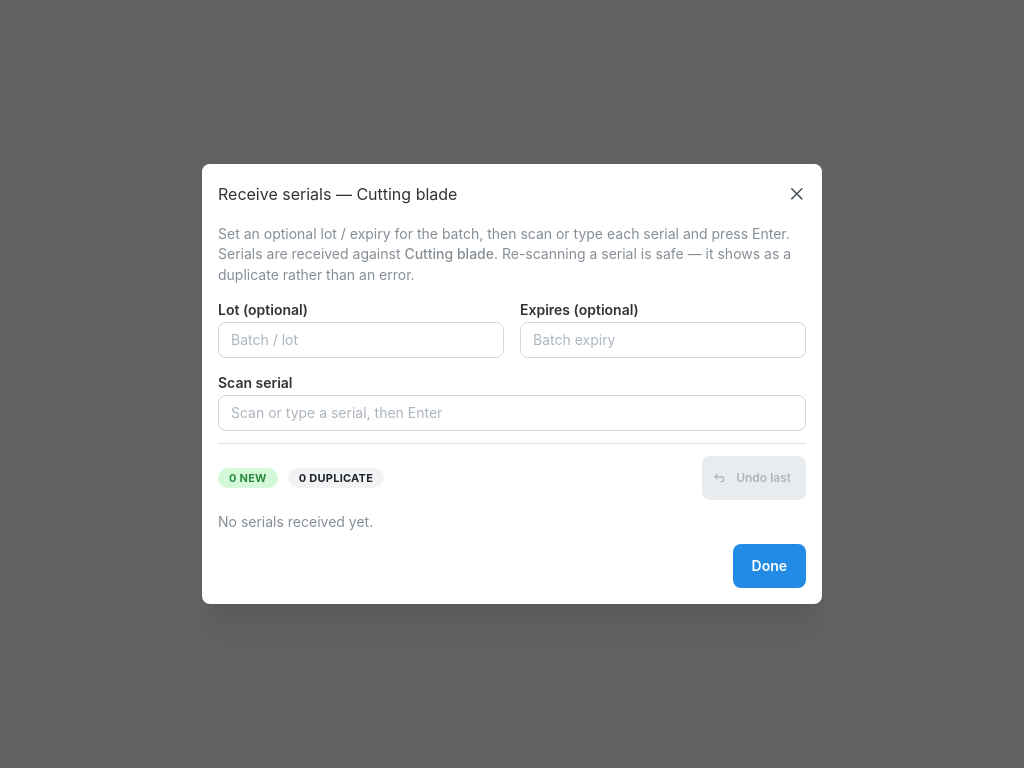
Scenario: SerializedScanReceiveModal › receives a scanned serial against the batch item and marks it new
Type "SN-1" into the field with test id "scan-receive-serial".
click(512, 413); type("SN-1")  # box [218, 395, 806, 431]
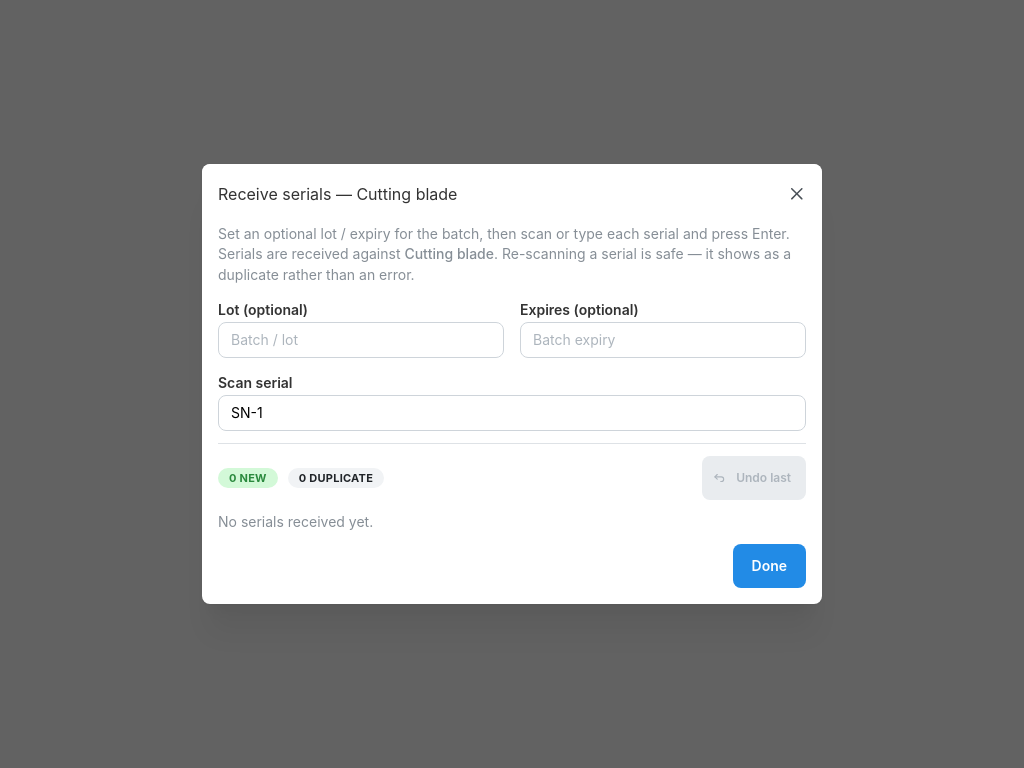
Submit the form with test id "scan-receive-form", box [218, 370, 806, 431]
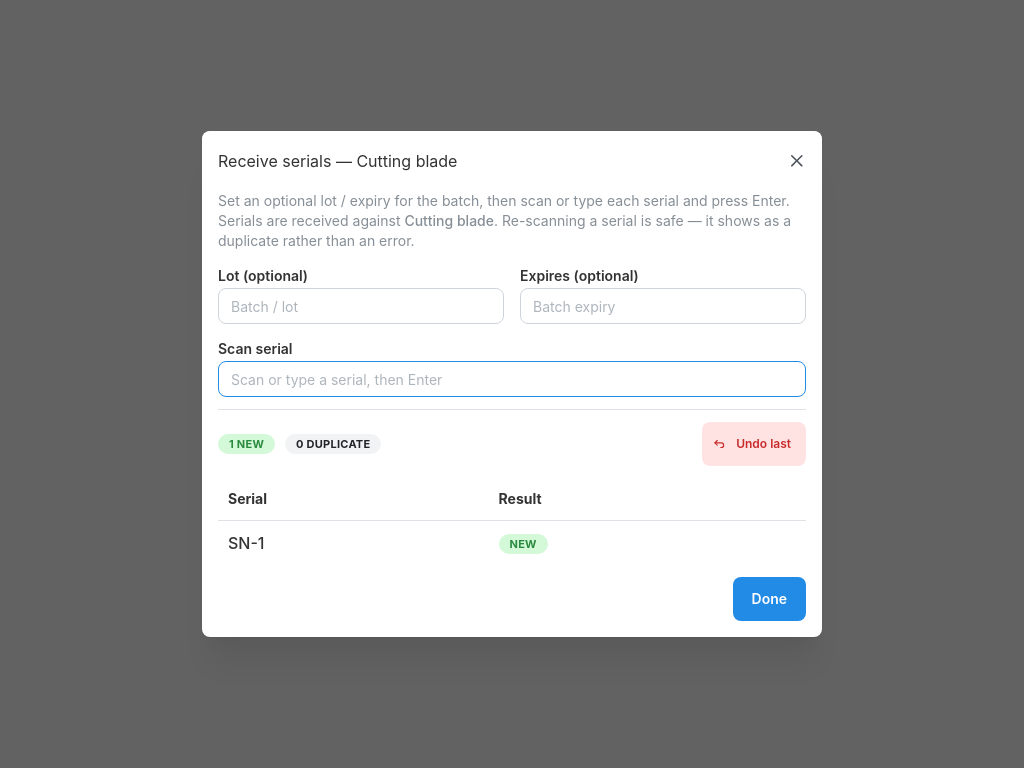
Check: the text "SN-1" is shown, box [228, 533, 264, 553]
Check: the text "New" is shown, box [510, 535, 537, 553]
Check: the element with test id "scan-receive-new-count" reads "1 new", box [218, 434, 275, 454]
